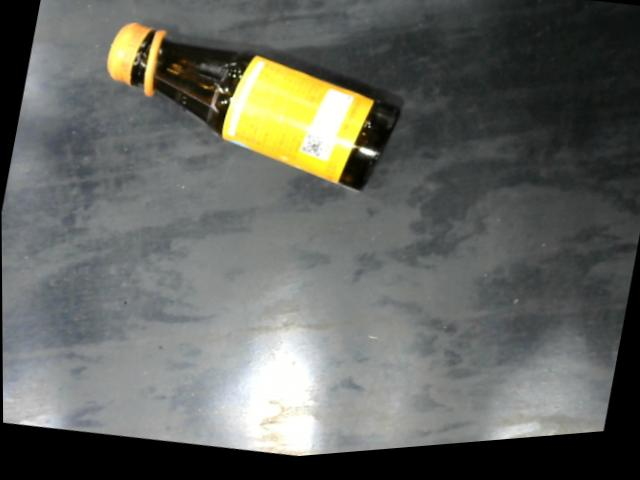glass: (87, 0, 417, 226)
